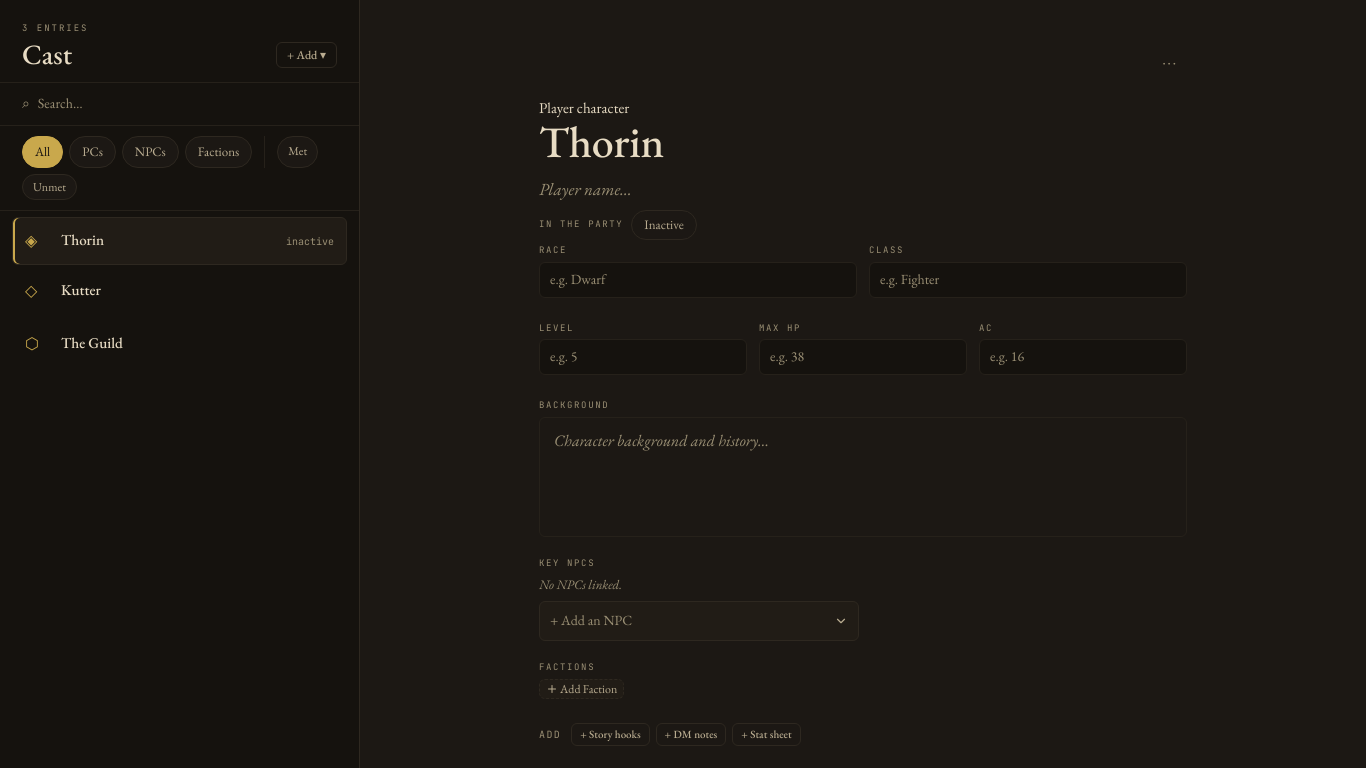
Scenario: Characters (cast list) › filters the list to a single kind
This screenshot has width=1366, height=768.
Click the button "Factions" at (219, 152), box [185,136,252,168]
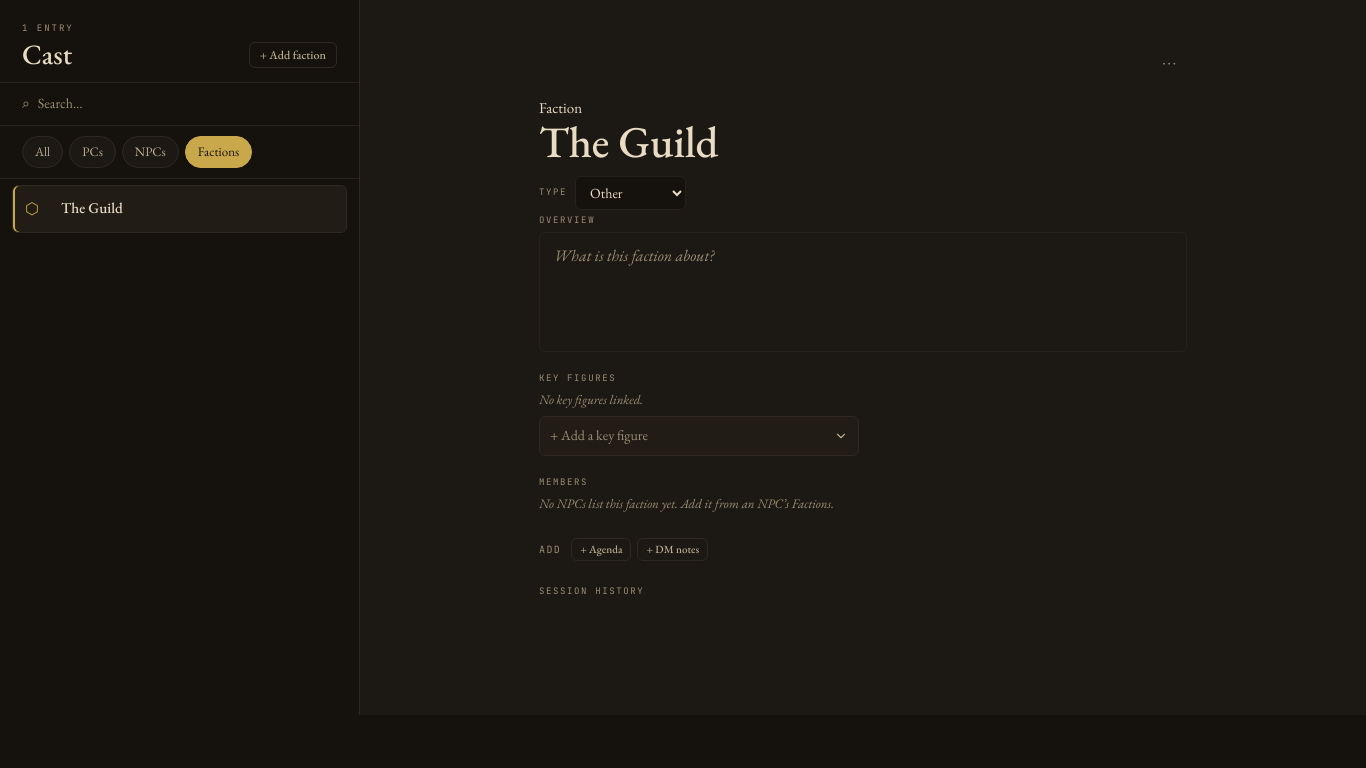
Expected: the text "The Guild" is shown, [61,198,123,217]
Now the button "Thorin" is gone
Now the button "Kutter" is gone
